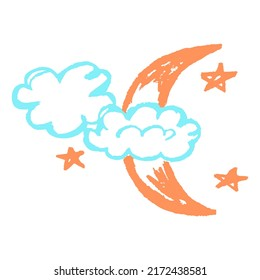cloud: (10, 60, 118, 139), (83, 103, 205, 162)
moon: (120, 43, 219, 217)
star: (200, 62, 237, 93), (213, 166, 249, 192), (56, 144, 88, 169)
